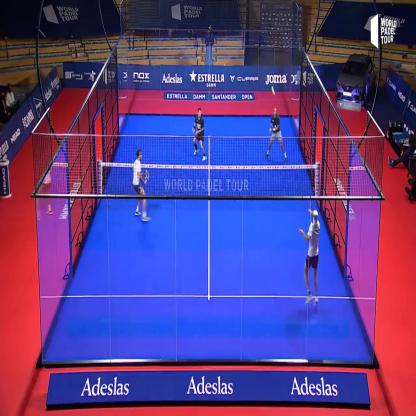ball: (268, 81, 278, 98)
